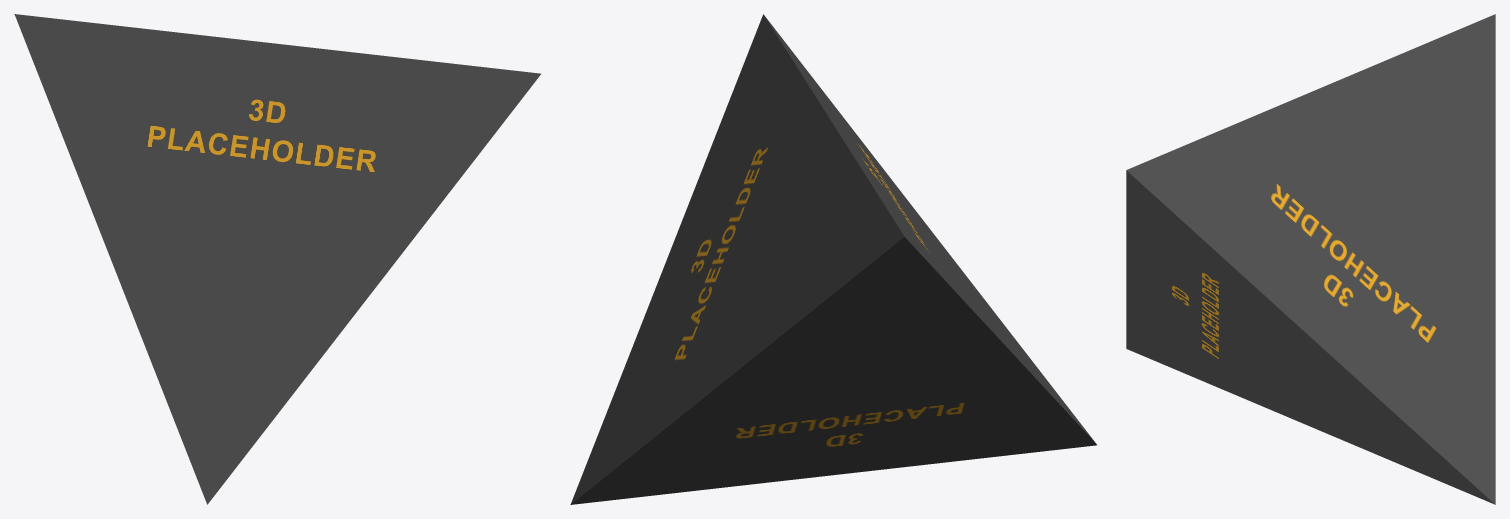
File: placeholder-3d.glb
3 renders of one model, left to right at view 1: azimuth 30°, elevation 25°; view 2: azimuth 150°, elevation 25°; view 3: azimuth 270°, elevation 25°, orthographic. The views are drawn at different scales.
Visible parts, largest first — view 1: placeholder-3d; view 2: placeholder-3d; view 3: placeholder-3d.
Part boxes in pixels (<box>): placeholder-3d: <box>14,14,540,504</box>; placeholder-3d: <box>570,14,1096,504</box>; placeholder-3d: <box>1126,14,1495,504</box>.
Size of the model in its own units: 0.6 by 0.6 by 0.6.
1 material, 1 textured.
